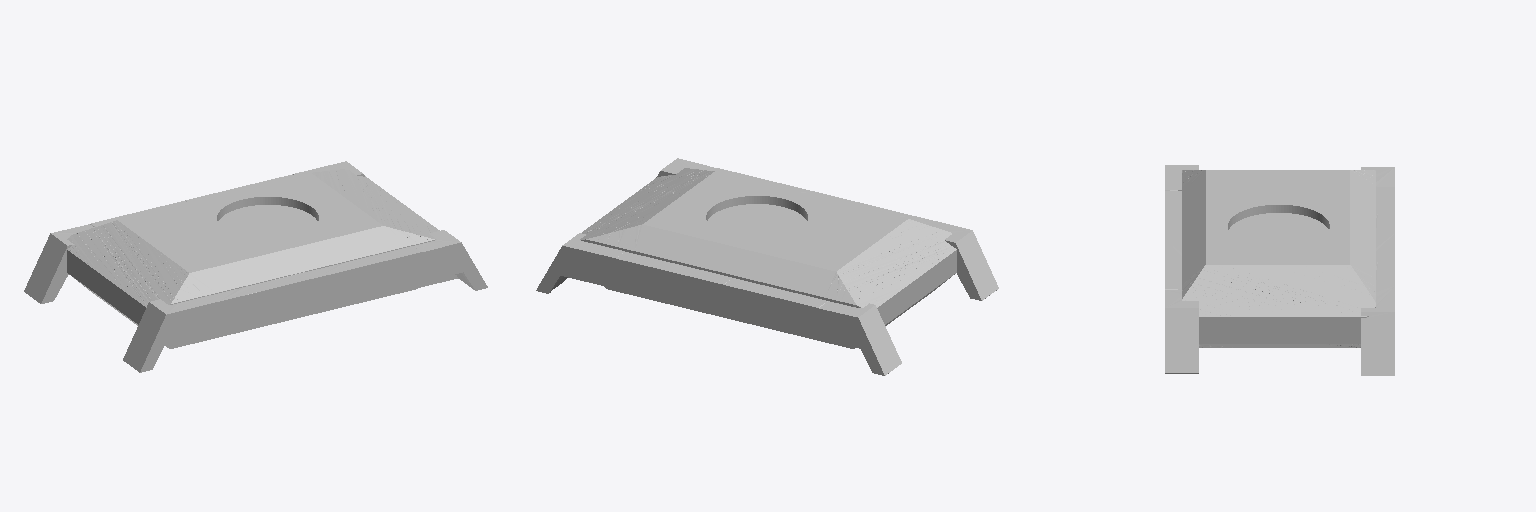
The model's file is bottom.obj.
3 views of the same model, side by side, from view 1: azimuth 30°, elevation 25°; view 2: azimuth 150°, elevation 25°; view 3: azimuth 270°, elevation 25° (orthographic).
Visible parts, largest first — view 1: Bottom; view 2: Bottom; view 3: Bottom.
Boxes of the visible parts, x1,y1,x2,y2 form: Bottom: [24, 161, 487, 372]; Bottom: [536, 158, 998, 375]; Bottom: [1165, 165, 1394, 375].
Size of the model in its own units: 6.08 by 1.18 by 3.47.